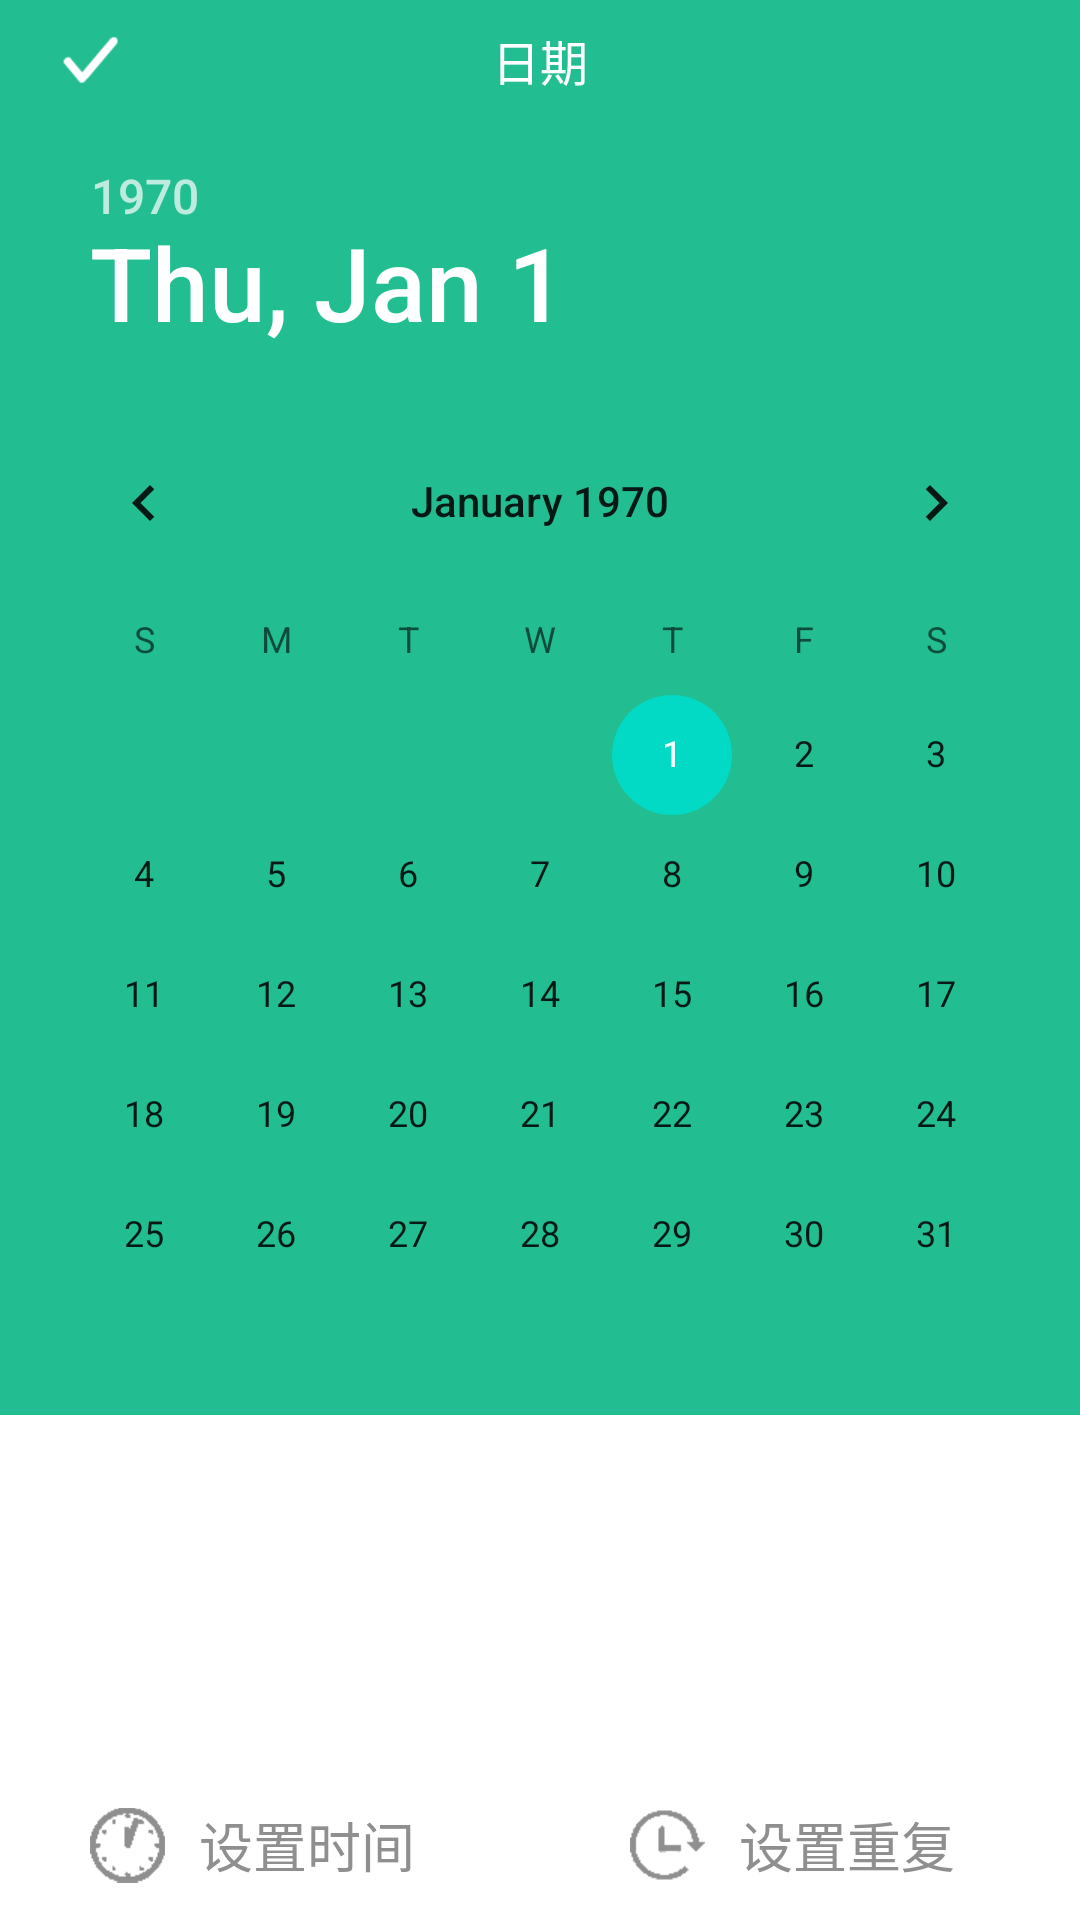

Icons on this 1080 × 1920 Android screen, each with the point to tap as [x,y]:
choice: [90,60]
chongfu: [667,1845]
shijian: [127,1845]
